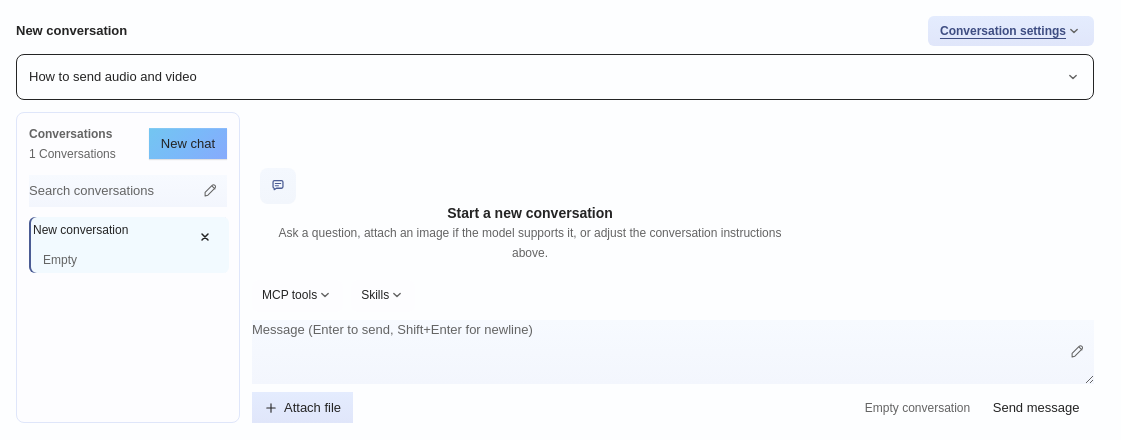
it: chat skill picker › explains that skills need the desktop app instead of showing an empty success in the browser
Expected: the element "conversation" is shown, [260,168,782,260]
Click the heading "Skills" at (383, 296), box [351,280,415,312]
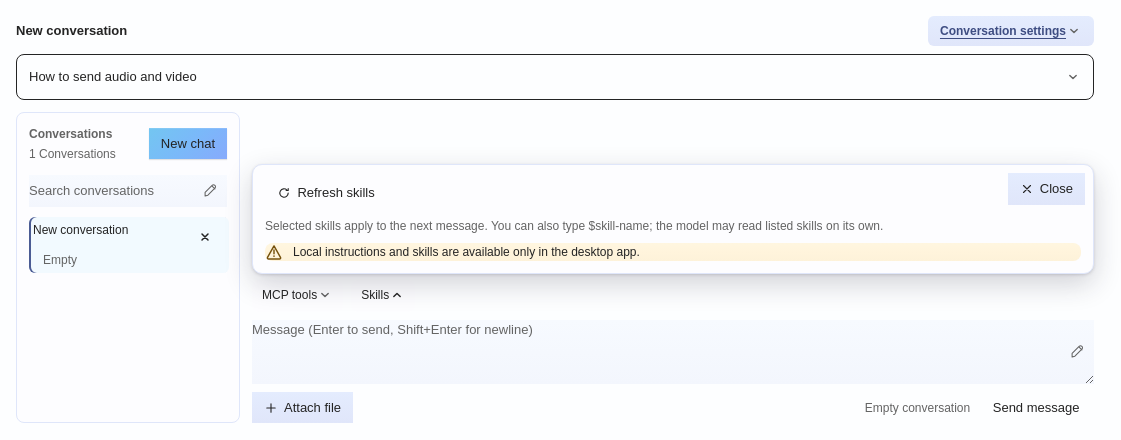
Now the text "Local instructions and skills are available only in the desktop app." is shown, box [293,245,640,259]
Now the button named "Refresh skills" is disabled, box [265,177,387,209]
